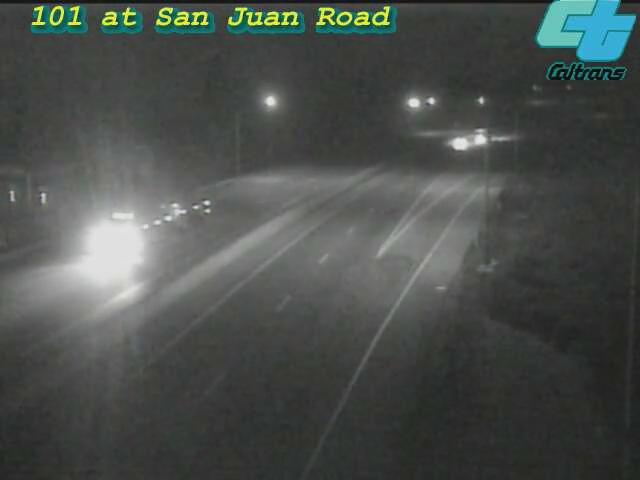vehicle: (94, 192, 174, 272), (459, 110, 509, 160), (435, 118, 485, 168)
